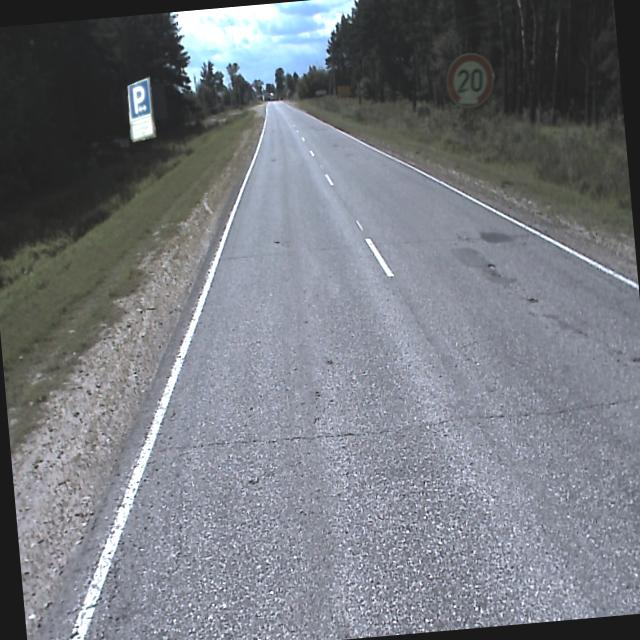road: (39, 99, 640, 640)
